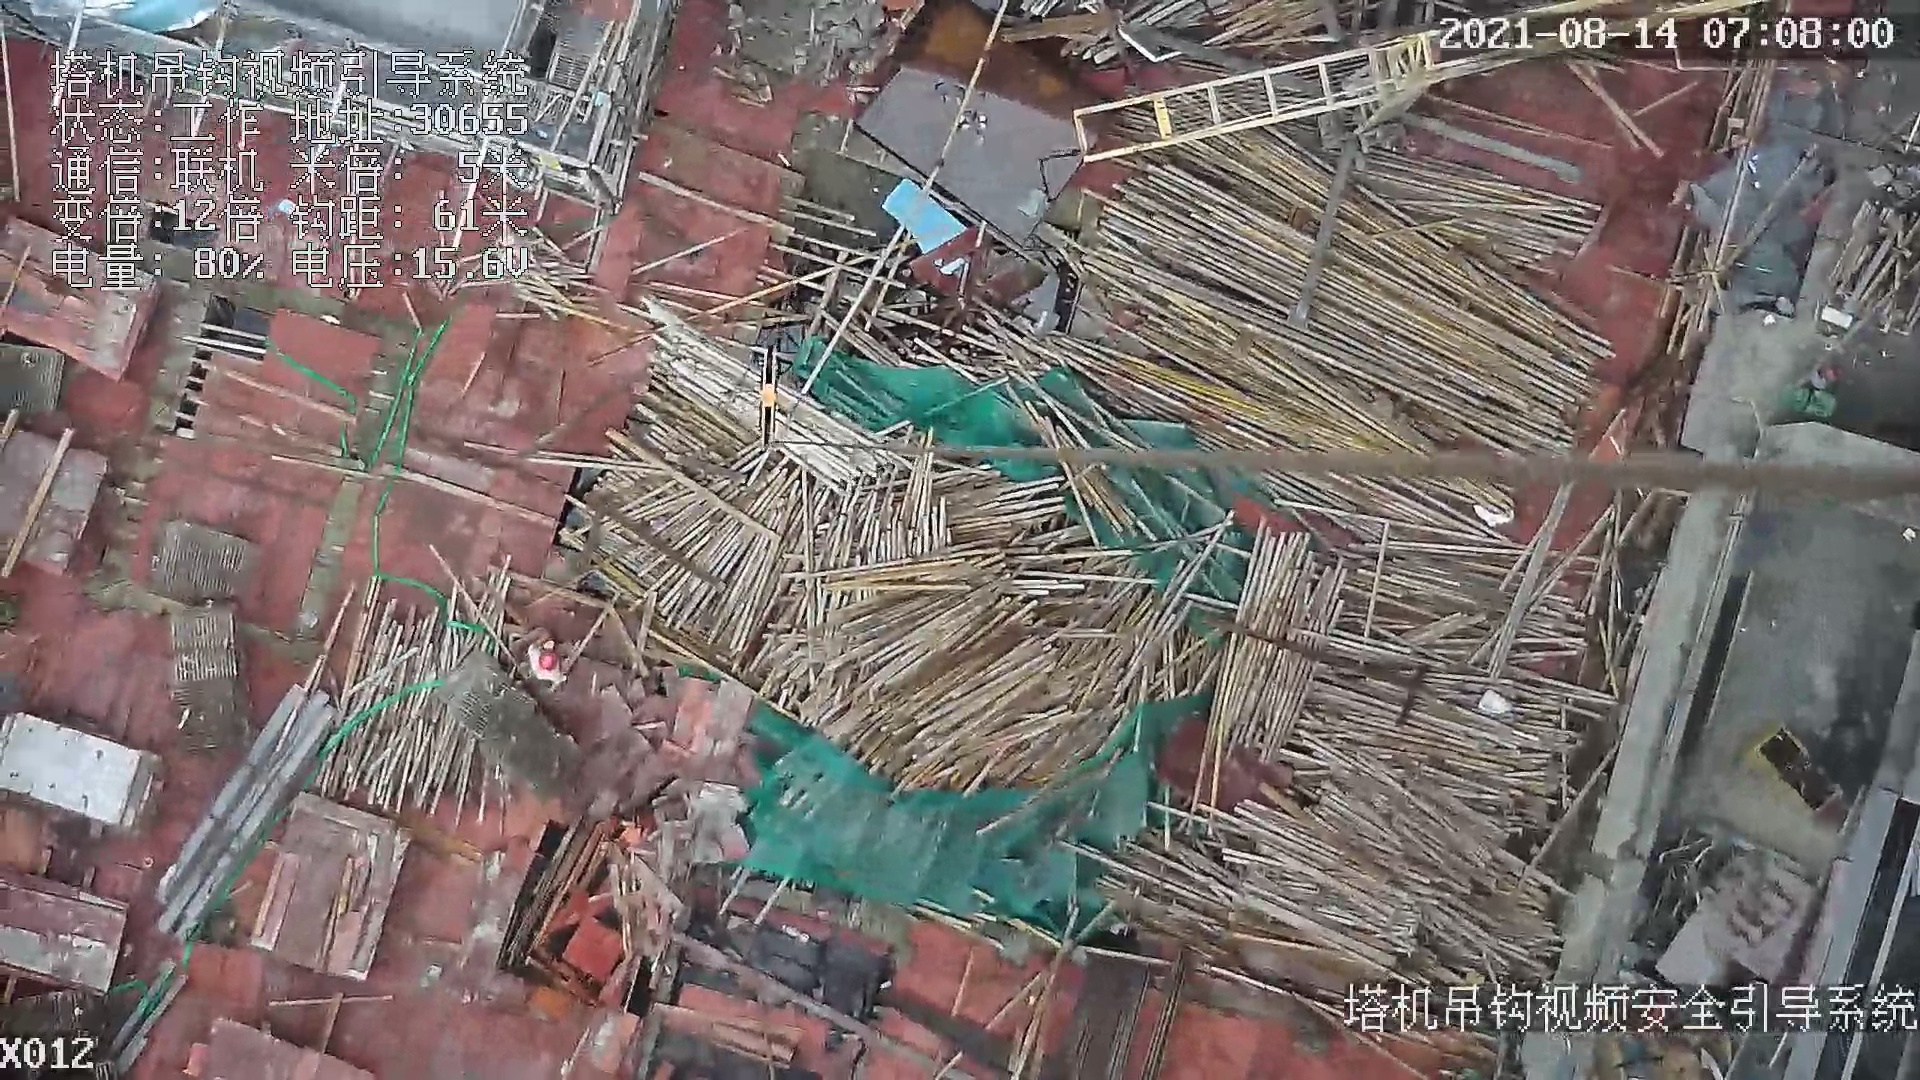hook: (754, 344, 789, 458)
